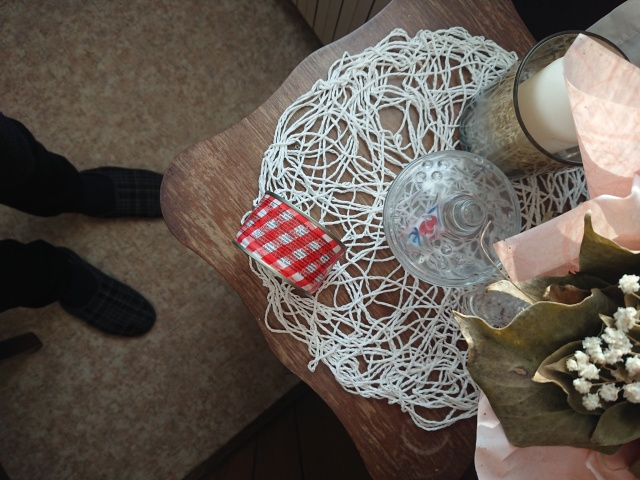Podravka Luncheon Meat 150g: (229, 187, 351, 300)
